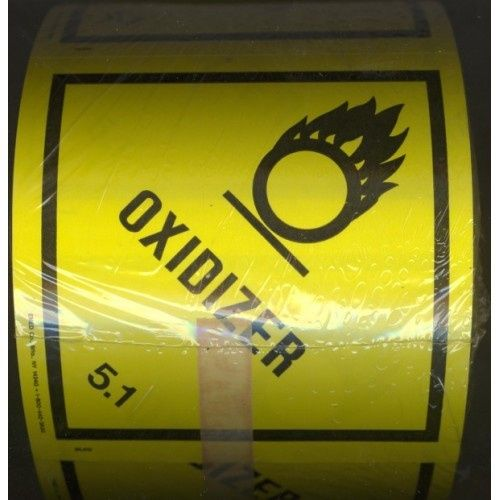Oxidizer: (21, 59, 468, 450)
